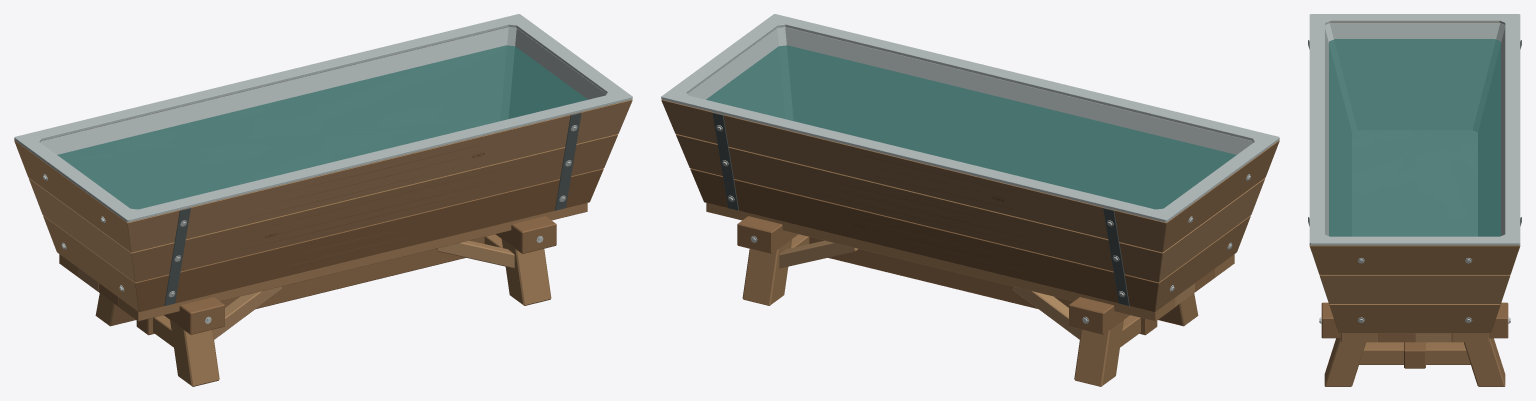
3 views of the same model, side by side, from view 1: azimuth 30°, elevation 25°; view 2: azimuth 150°, elevation 25°; view 3: azimuth 270°, elevation 25° (orthographic). The views are drawn at different scales.
Visible parts, largest first — view 1: Continuous hollow galvanized liner, Water level - full to empty, Long wall -1 plank 3, Folded metal rim with open center, Long wall -1 plank 2, Long wall -1 plank 1, Underside floor plank 1, Longitudinal lower stretcher, End wall -1 plank 3, End wall -1 plank 2, End wall -1 plank 1, Splayed foot -1 -1 (+8 smaller); view 2: Continuous hollow galvanized liner, Water level - full to empty, Long wall 1 plank 3, Folded metal rim with open center, Long wall 1 plank 2, Long wall 1 plank 1, Underside floor plank 4, Longitudinal lower stretcher, End wall -1 plank 3, End wall -1 plank 2, End wall -1 plank 1, Splayed foot -1 1 (+8 smaller); view 3: Continuous hollow galvanized liner, Water level - full to empty, Folded metal rim with open center, End wall 1 plank 3, End wall 1 plank 2, End wall 1 plank 1, Lower trestle tie 1, Splayed foot 1 1, Splayed foot 1 -1, Transverse saddle bearer 1, Longitudinal lower stretcher, Underside floor plank 1 (+3 smaller).
Boxes of the visible parts, left/top/right/bottom form: Continuous hollow galvanized liner: left=40, top=27, right=606, bottom=208; Water level - full to empty: left=57, top=45, right=587, bottom=209; Long wall -1 plank 3: left=127, top=99, right=632, bottom=252; Folded metal rim with open center: left=14, top=14, right=632, bottom=222; Long wall -1 plank 2: left=131, top=134, right=617, bottom=282; Long wall -1 plank 1: left=135, top=168, right=603, bottom=311; Underside floor plank 1: left=118, top=203, right=587, bottom=321; Longitudinal lower stretcher: left=136, top=237, right=484, bottom=335; End wall -1 plank 3: left=14, top=140, right=130, bottom=251; End wall -1 plank 2: left=28, top=178, right=134, bottom=282; End wall -1 plank 1: left=43, top=216, right=138, bottom=311; Splayed foot -1 -1: left=170, top=320, right=219, bottom=386; Continuous hollow galvanized liner: left=687, top=27, right=1253, bottom=208; Water level - full to empty: left=706, top=45, right=1236, bottom=209; Long wall 1 plank 3: left=661, top=99, right=1166, bottom=252; Folded metal rim with open center: left=661, top=14, right=1279, bottom=222; Long wall 1 plank 2: left=676, top=134, right=1162, bottom=282; Long wall 1 plank 1: left=690, top=168, right=1158, bottom=311; Underside floor plank 4: left=706, top=203, right=1175, bottom=321; Longitudinal lower stretcher: left=809, top=237, right=1157, bottom=335; End wall -1 plank 3: left=1163, top=140, right=1279, bottom=251; End wall -1 plank 2: left=1159, top=178, right=1265, bottom=282; End wall -1 plank 1: left=1155, top=216, right=1250, bottom=311; Splayed foot -1 1: left=1074, top=320, right=1123, bottom=386; Continuous hollow galvanized liner: left=1325, top=23, right=1504, bottom=236; Water level - full to empty: left=1329, top=39, right=1500, bottom=236; Folded metal rim with open center: left=1309, top=14, right=1520, bottom=245; End wall 1 plank 3: left=1310, top=245, right=1519, bottom=274; End wall 1 plank 2: left=1320, top=275, right=1509, bottom=303; End wall 1 plank 1: left=1330, top=304, right=1499, bottom=333; Lower trestle tie 1: left=1359, top=342, right=1470, bottom=364; Splayed foot 1 1: left=1464, top=338, right=1505, bottom=386; Splayed foot 1 -1: left=1324, top=338, right=1365, bottom=386; Transverse saddle bearer 1: left=1321, top=302, right=1508, bottom=338; Longitudinal lower stretcher: left=1404, top=342, right=1425, bottom=368; Underside floor plank 1: left=1341, top=333, right=1378, bottom=342.
Bounding box in the file's own units: 1.8 × 0.65 × 0.7092.
